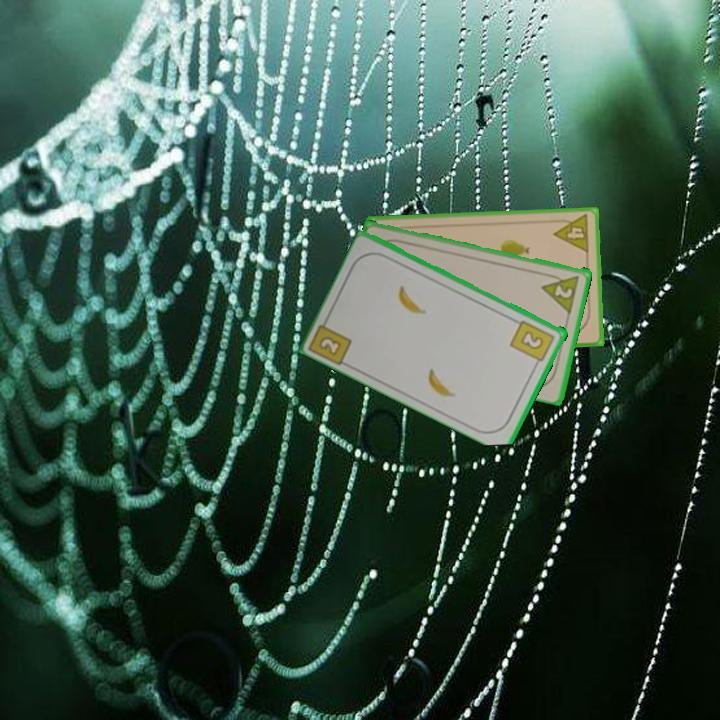2b: (507, 316, 558, 369), (315, 332, 344, 358)
2p: (538, 269, 582, 315)
4p: (550, 211, 592, 256)
